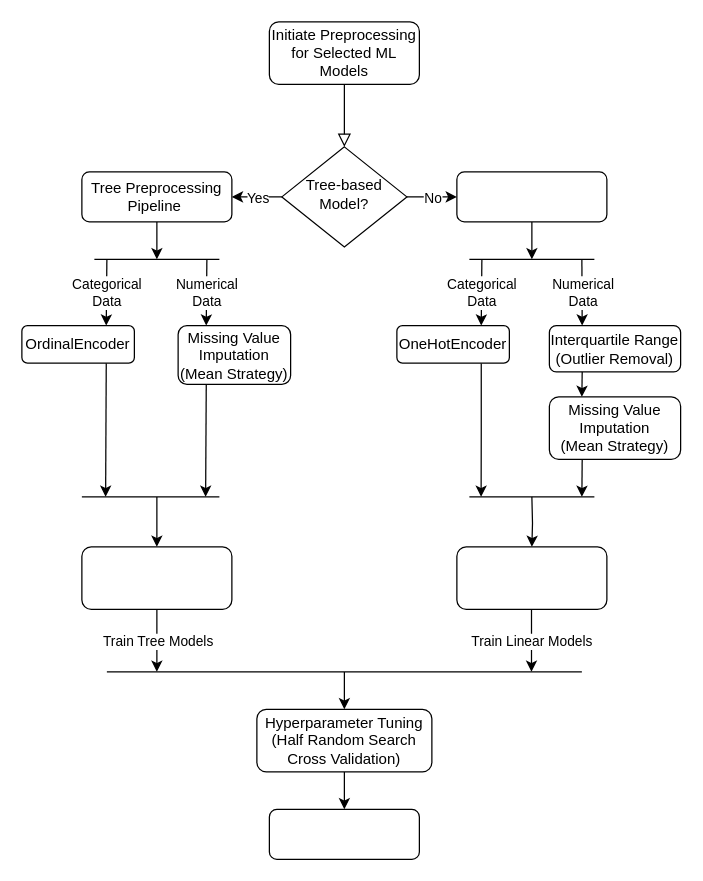
Image size: 703x881. Some labels were removed from this diagram. The shapes that lost their labels are listed below. From the top down, each one's box as (x1, y1, x2, y2) in pixels, then its label:
(456, 171, 607, 222): Linear Preprocessing Pipeline
(81, 546, 232, 609): Preprocessed Data (Tree-based Models)
(456, 546, 607, 609): Preprocessed Data (Linear Models)
(268, 808, 419, 859): Optimized Models
